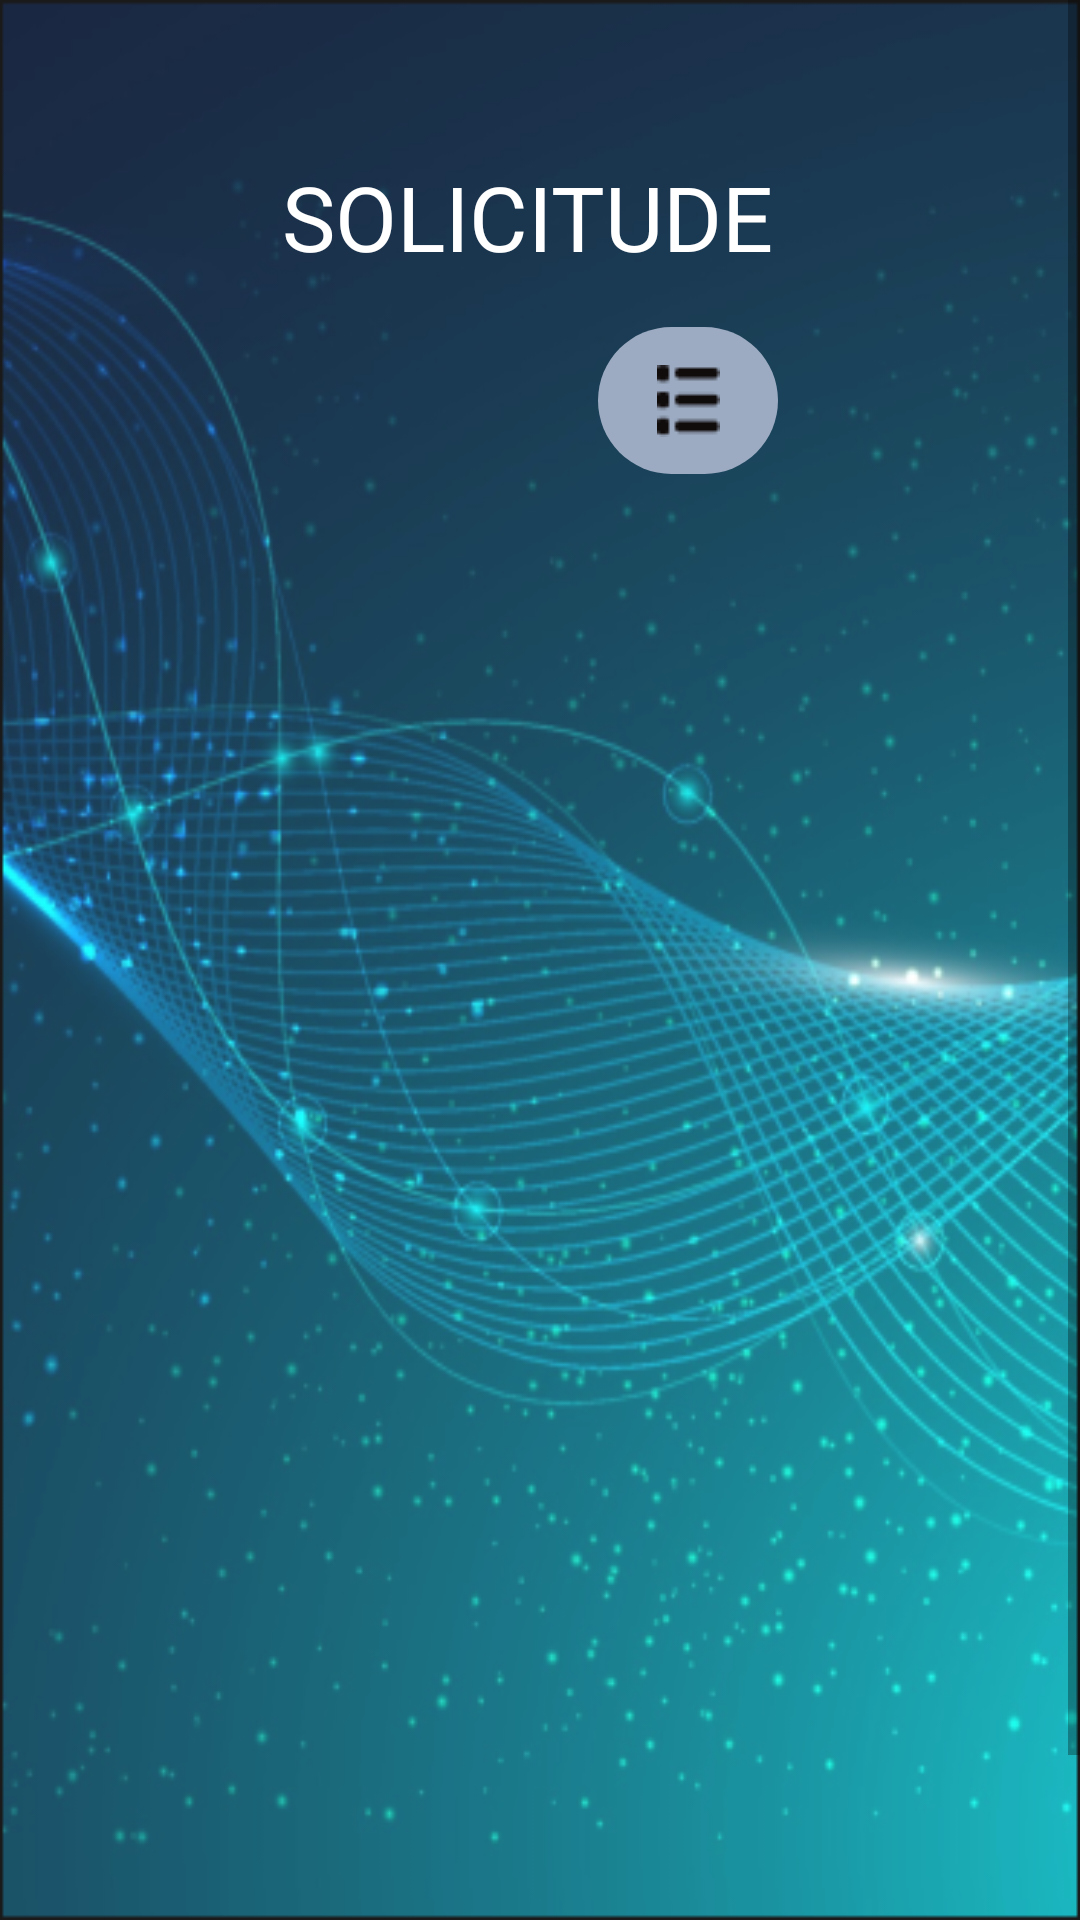

Locate icon controls on the screen. Image size 1080px x 1920px, boxes as (x1, y1, x2, y2).
three lines: (598, 327, 778, 474)
